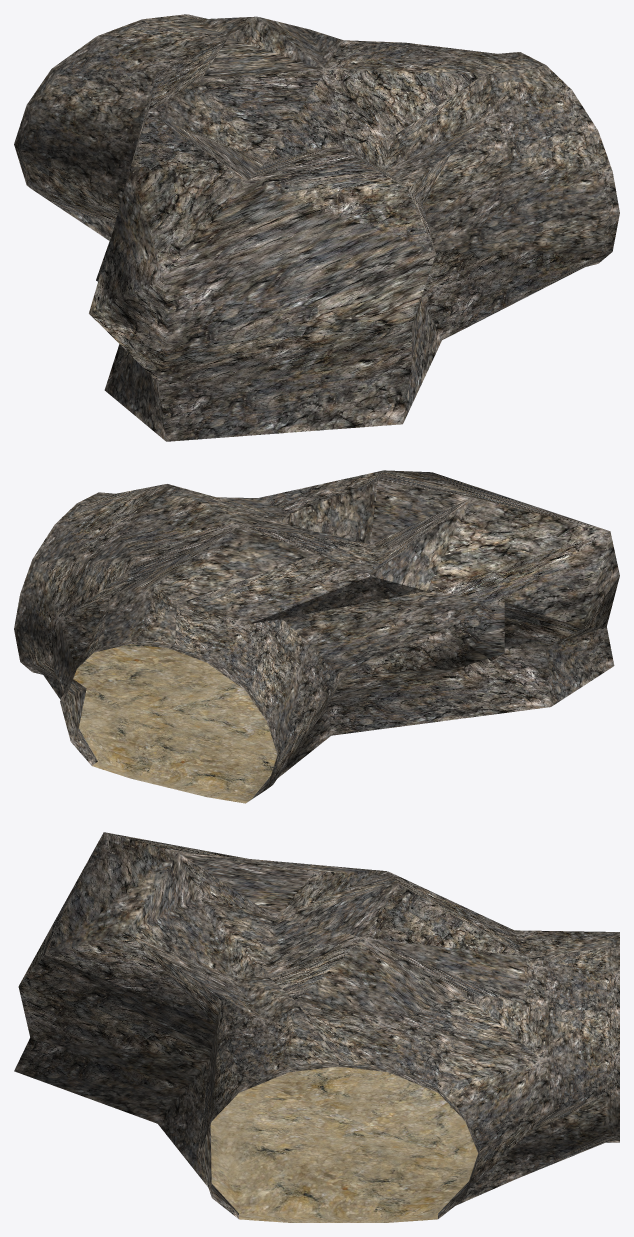
Rendered from pir_m_are_cav_elbow200.fbx.
The picture shows the model from 3 angles, top to bottom: view 1: azimuth 30°, elevation 25°; view 2: azimuth 150°, elevation 25°; view 3: azimuth 270°, elevation 25°; orthographic projection. The views are drawn at different scales.
Visible parts, largest first — view 1: elbow200_wall; view 2: elbow200_wall, elbow200_floor; view 3: elbow200_wall, elbow200_floor.
Part boxes in pixels (x1,y1,x2,y2): elbow200_wall: (14,14,619,441); elbow200_wall: (14,470,619,800); elbow200_floor: (73,644,277,803); elbow200_wall: (14,832,619,1218); elbow200_floor: (210,1066,477,1222).
Bounding box in the file's own units: 20558 × 7697 × 21534.
2 materials, 2 textured.
